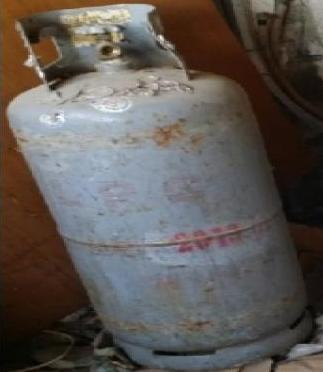cylinder: (1, 1, 323, 372)
